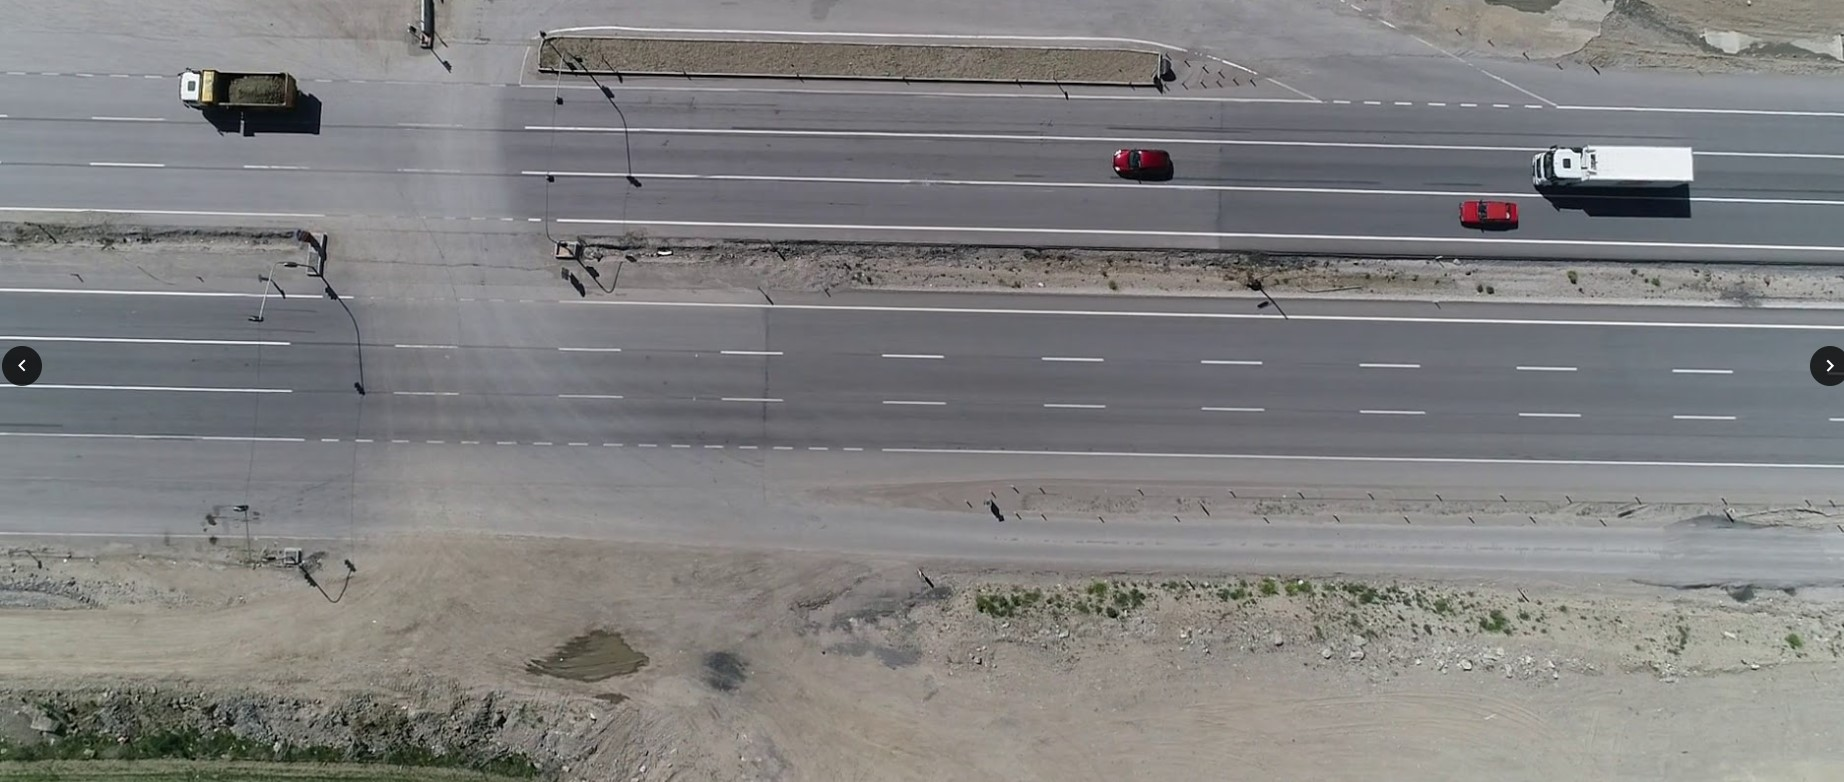araba: (1114, 143, 1175, 180), (1459, 192, 1522, 226)
kamyon: (1530, 141, 1699, 198), (178, 62, 305, 119)
